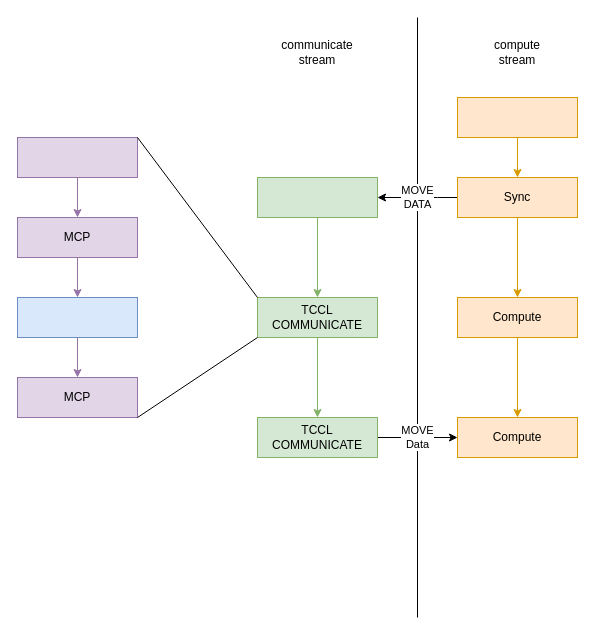
Some shapes in this 595 by 636 pixel diagram are drawn without their labels. Here are the shapes that lost their labels. From the top down, the box of each, then its label:
(456, 96, 578, 138): Compute Kernel
(16, 136, 138, 178): device allreduce
(256, 176, 378, 218): wait Compute kernel
(16, 296, 138, 338): host allreduce
